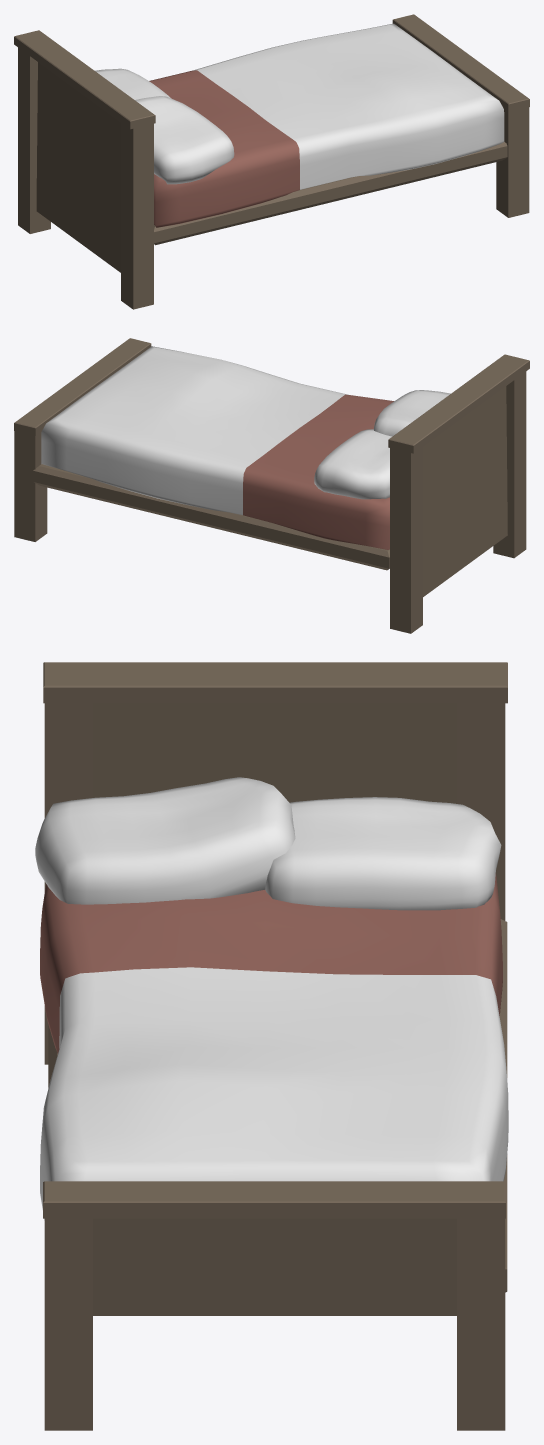
Rendered from Bed.fbx.
3 views of the same model, one above another, from view 1: azimuth 30°, elevation 25°; view 2: azimuth 150°, elevation 25°; view 3: azimuth 270°, elevation 25° (orthographic). The views are drawn at different scales.
Visible parts, largest first — view 1: MadressBed; view 2: MadressBed; view 3: MadressBed.
Boxes of the visible parts, x1=… form: MadressBed: x1=14, y1=14, x2=529, y2=309; MadressBed: x1=14, y1=338, x2=529, y2=633; MadressBed: x1=35, y1=662, x2=508, y2=1430.
Bounding box in the file's own units: 3.67 × 1.66 × 1.88.
